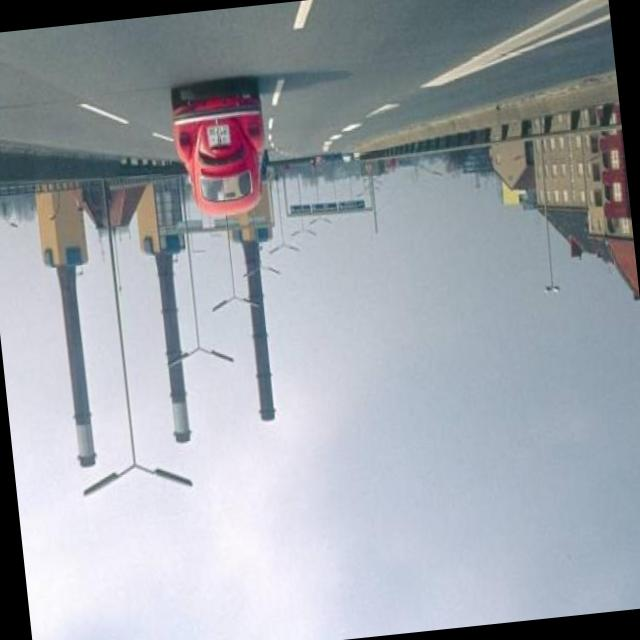car: (172, 86, 271, 222)
